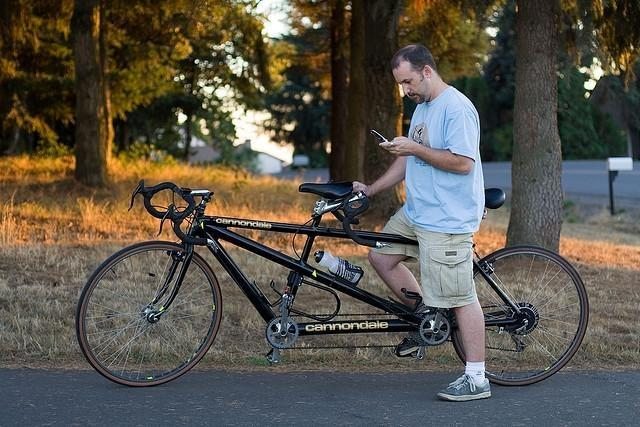bicycle: (80, 179, 464, 388)
